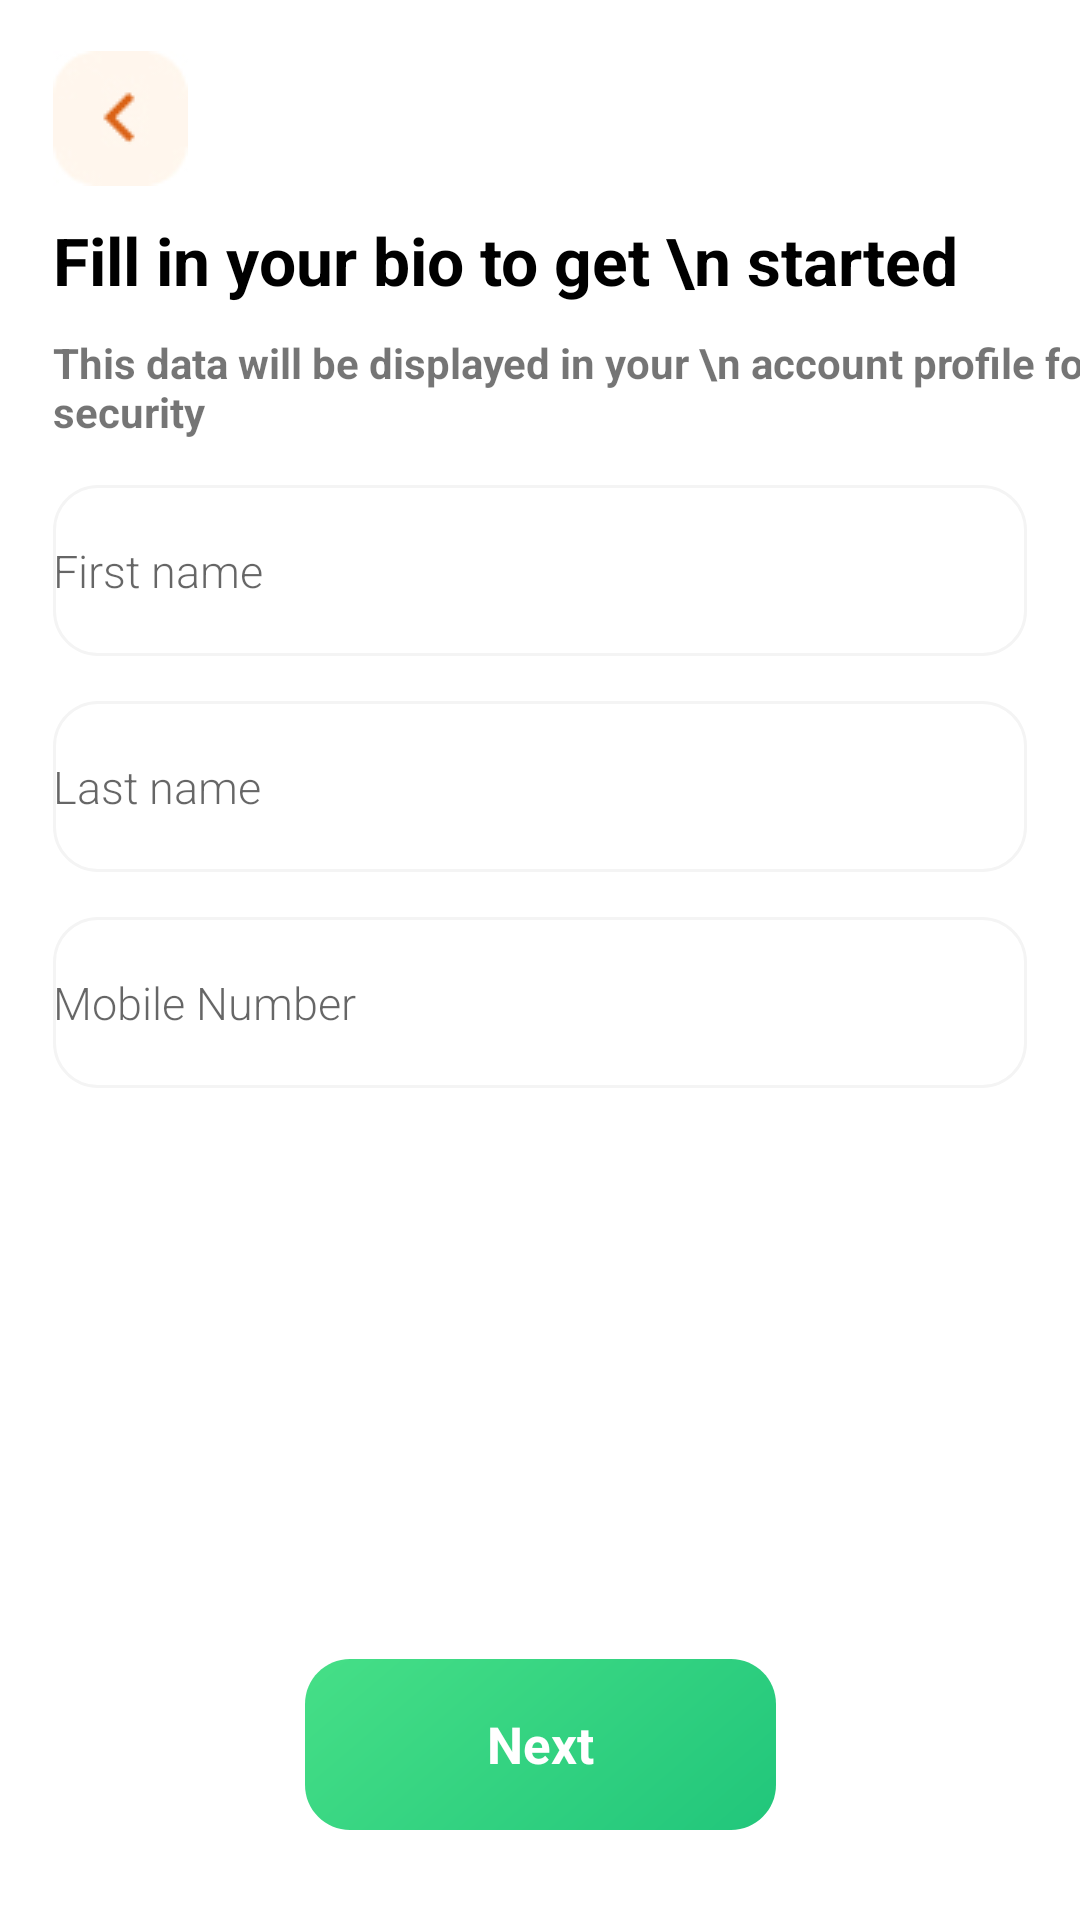

Named icons in this screenshot (1080px x 1920px) and their bounding boxes, (x1, y1, x2, y2):
iconback: (53, 51, 188, 186)
